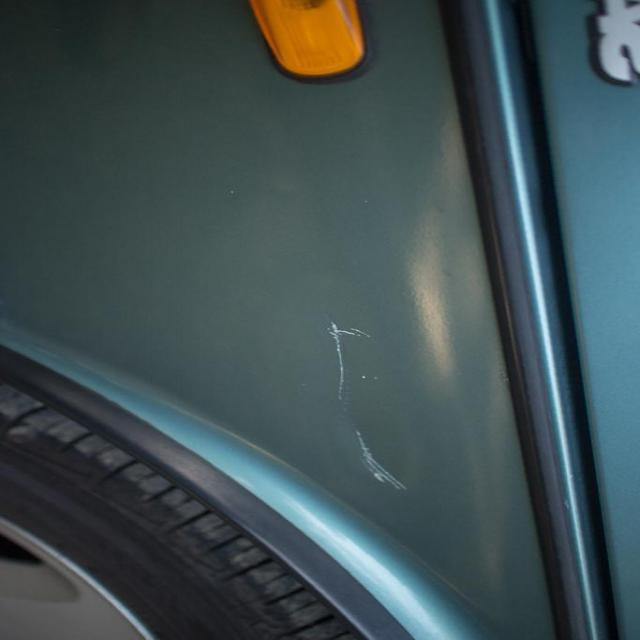scratch: (314, 306, 442, 498)
